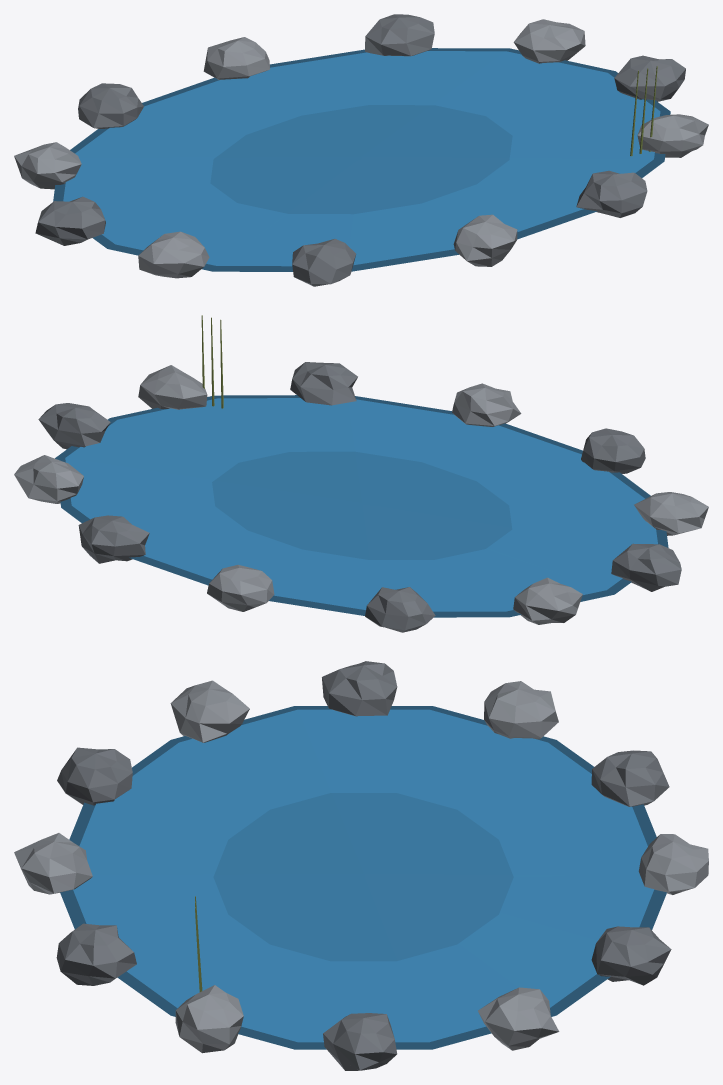
Rendered from pond.glb.
3 renders of one model, top to bottom at view 1: azimuth 30°, elevation 25°; view 2: azimuth 150°, elevation 25°; view 3: azimuth 270°, elevation 25°, orthographic. The views are drawn at different scales.
Parts seen in each view (by area): view 1: pond; view 2: pond; view 3: pond.
Part boxes in pixels (bbox=[...]): pond: bbox=[14, 14, 708, 286]; pond: bbox=[14, 315, 708, 632]; pond: bbox=[14, 661, 708, 1070].
Size of the model in its own units: 6.91 by 1 by 5.16.
